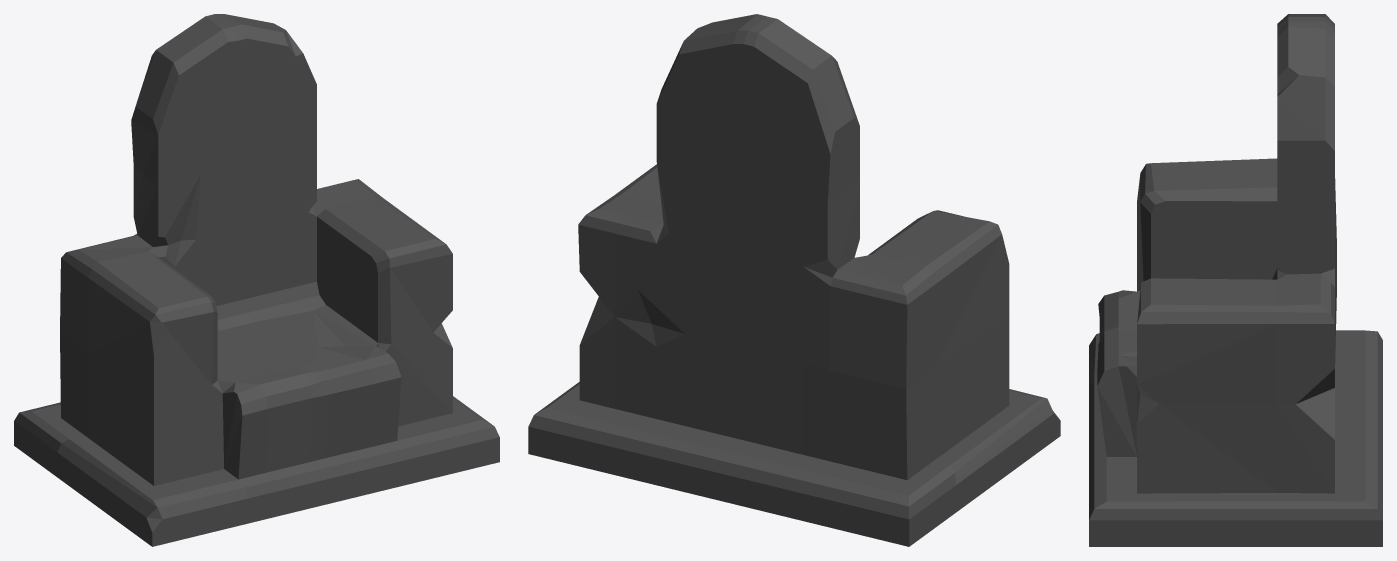
Rendered from Throne_C.fbx.
The picture shows the model from 3 angles, left to right: view 1: azimuth 30°, elevation 25°; view 2: azimuth 150°, elevation 25°; view 3: azimuth 270°, elevation 25°; orthographic projection. The views are drawn at different scales.
Visible parts, largest first — view 1: Throne_C; view 2: Throne_C; view 3: Throne_C.
Boxes of the visible parts, x1,y1,x2,y2 form: Throne_C: (14,14,499,546); Throne_C: (528,14,1060,546); Throne_C: (1089,14,1382,546).
Bounding box in the file's own units: 146 × 164 × 101.
